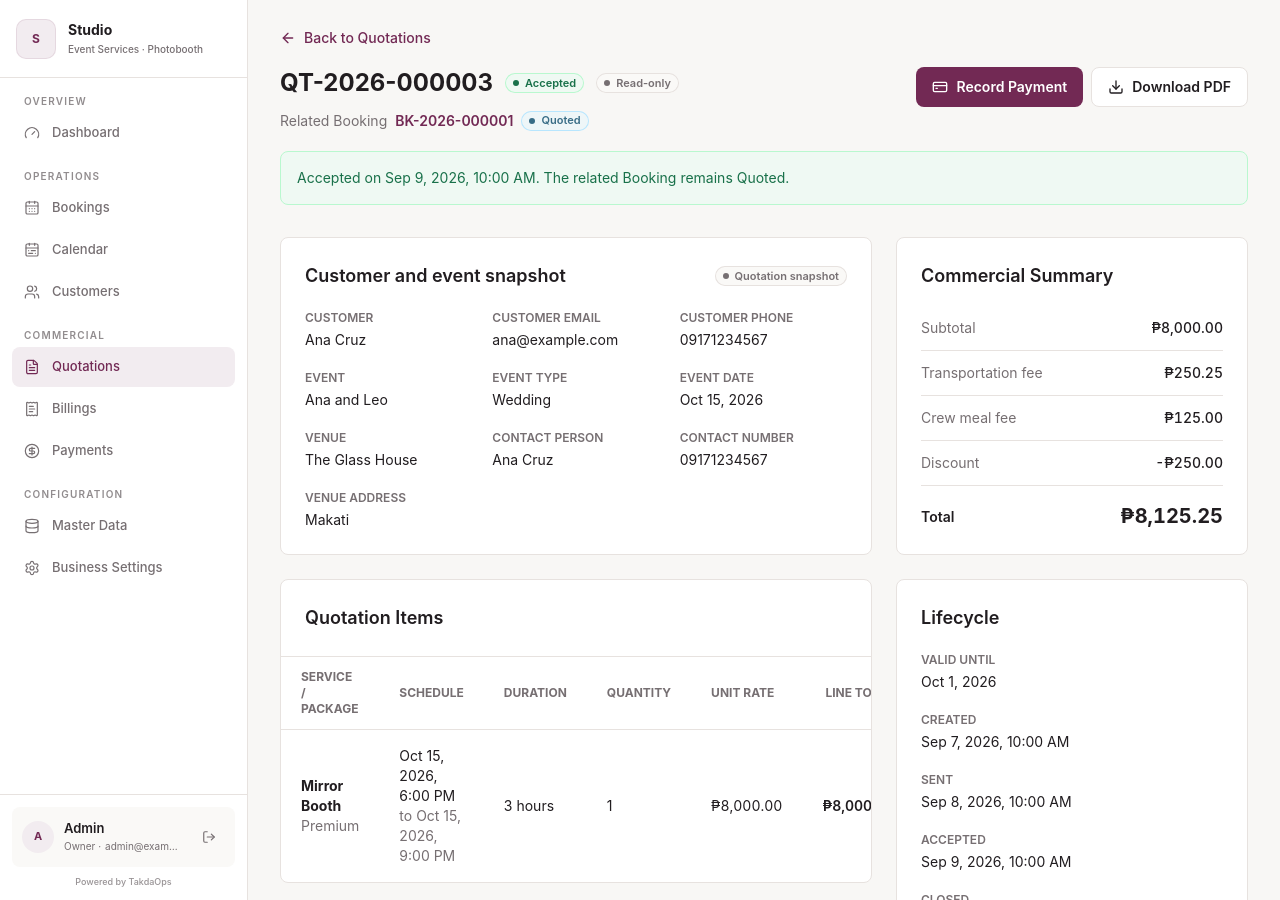
Accepted Quotation without Billing validates and records its first Payment
The image size is (1280, 900).
Click the button "Record Payment": {"x": 1000, "y": 87} [916, 67, 1083, 107]
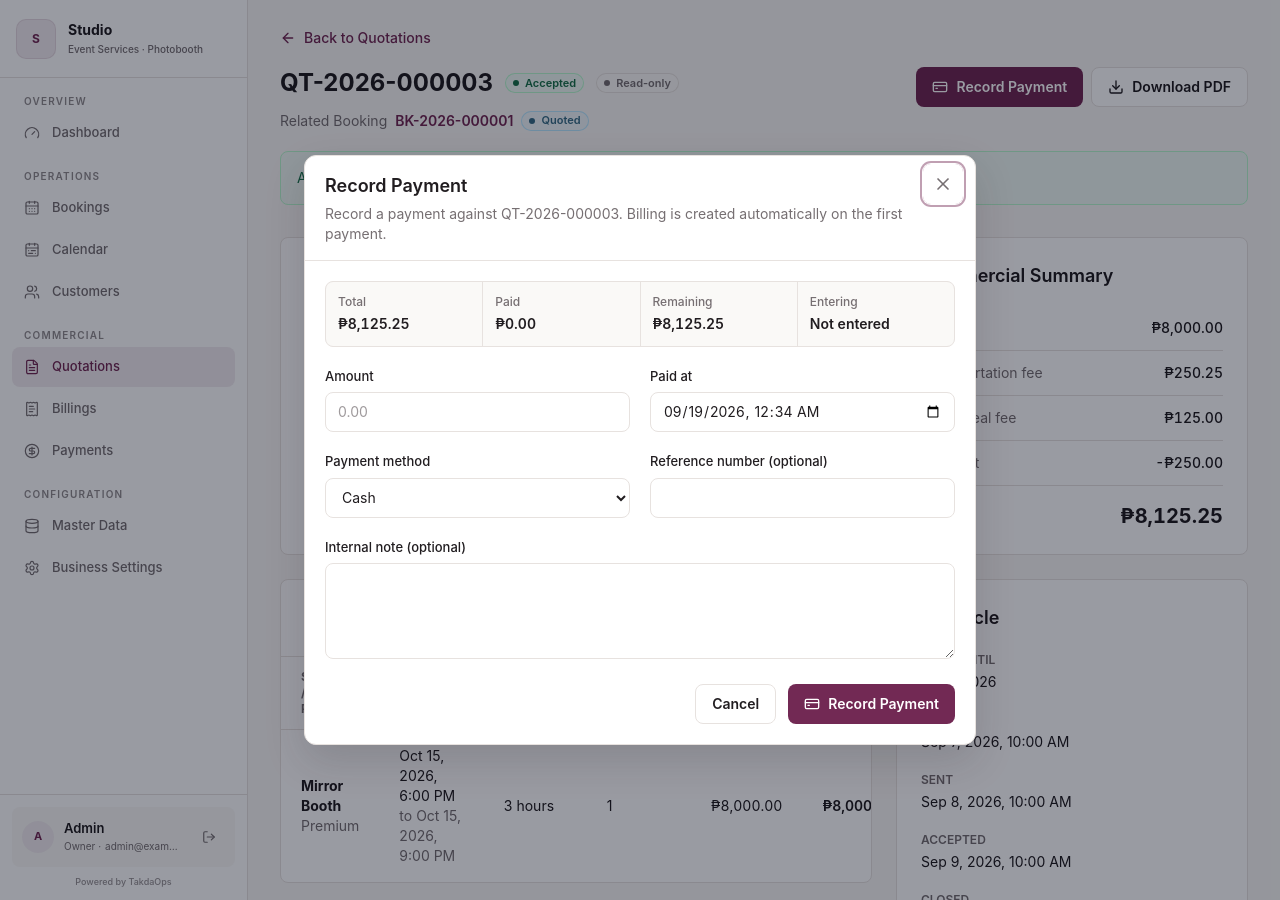
Click the button "Record Payment": {"x": 872, "y": 704} [788, 684, 955, 724]
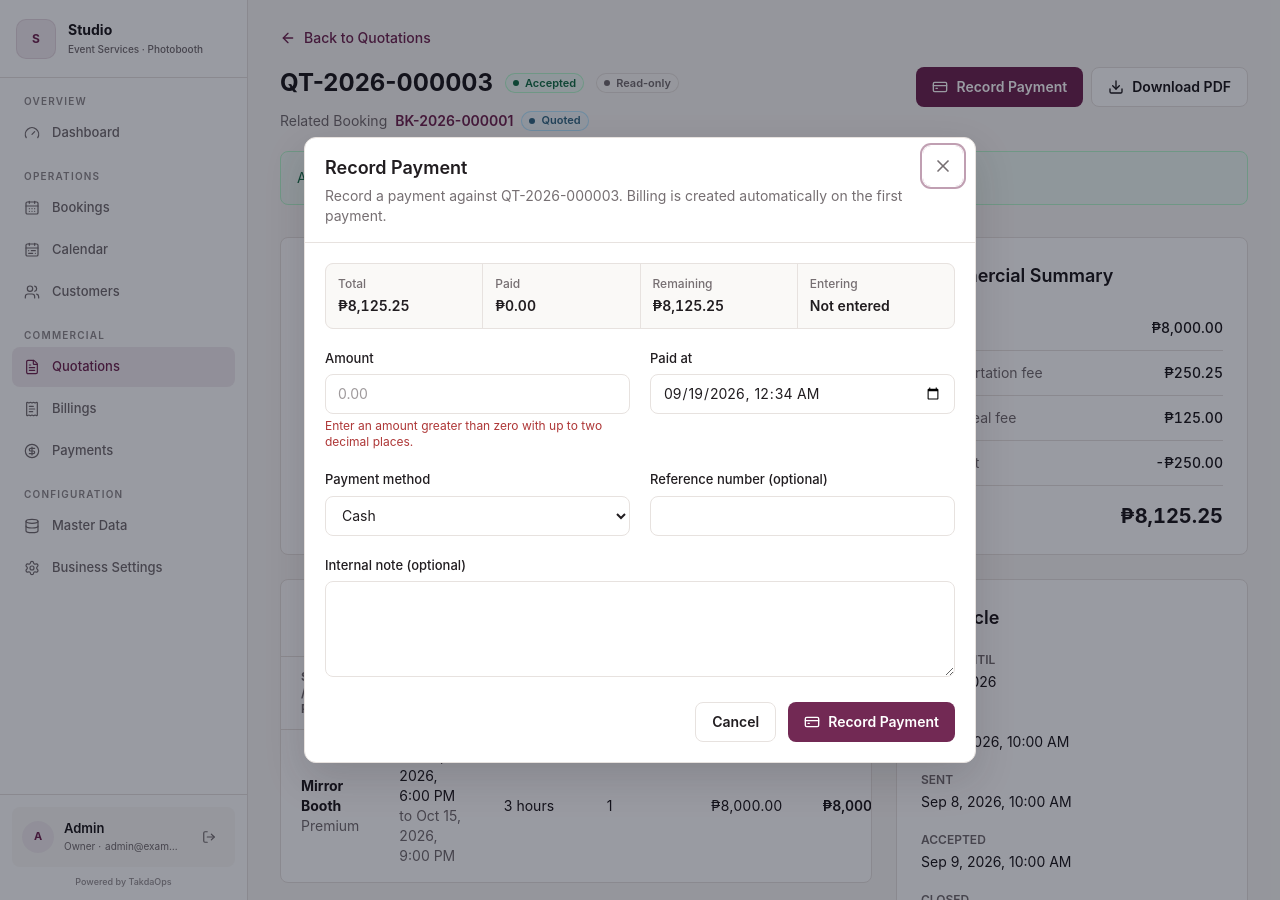
Now the text "greater than zero" is shown, box [325, 418, 602, 449]
In the field labelled "Amount": {"x": 478, "y": 394} [325, 374, 630, 414], type "1000.00"
Select "GCash" in the dropdown labelled "Payment method": {"x": 478, "y": 516} [325, 496, 630, 536]
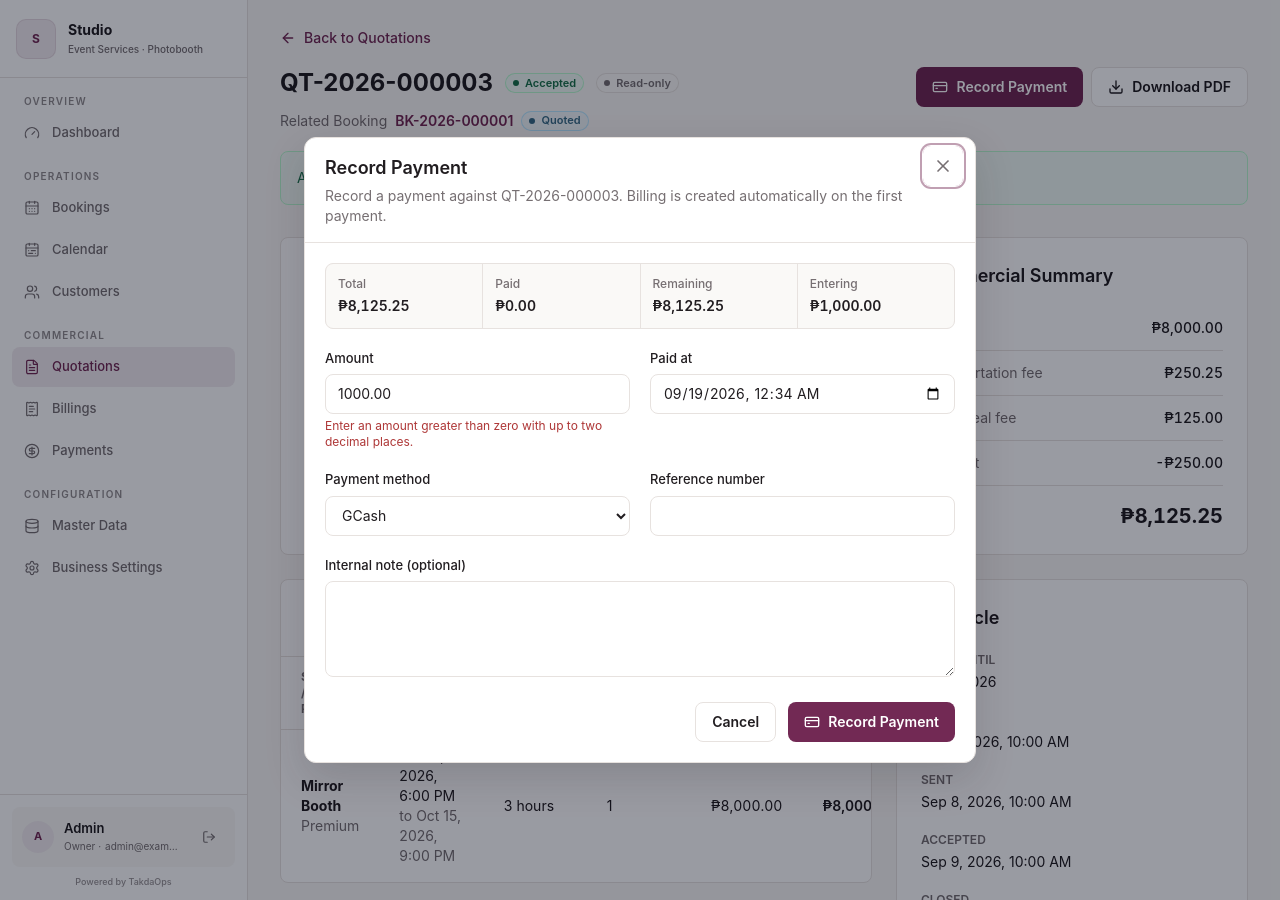
Click the button "Record Payment": {"x": 872, "y": 722} [788, 702, 955, 742]
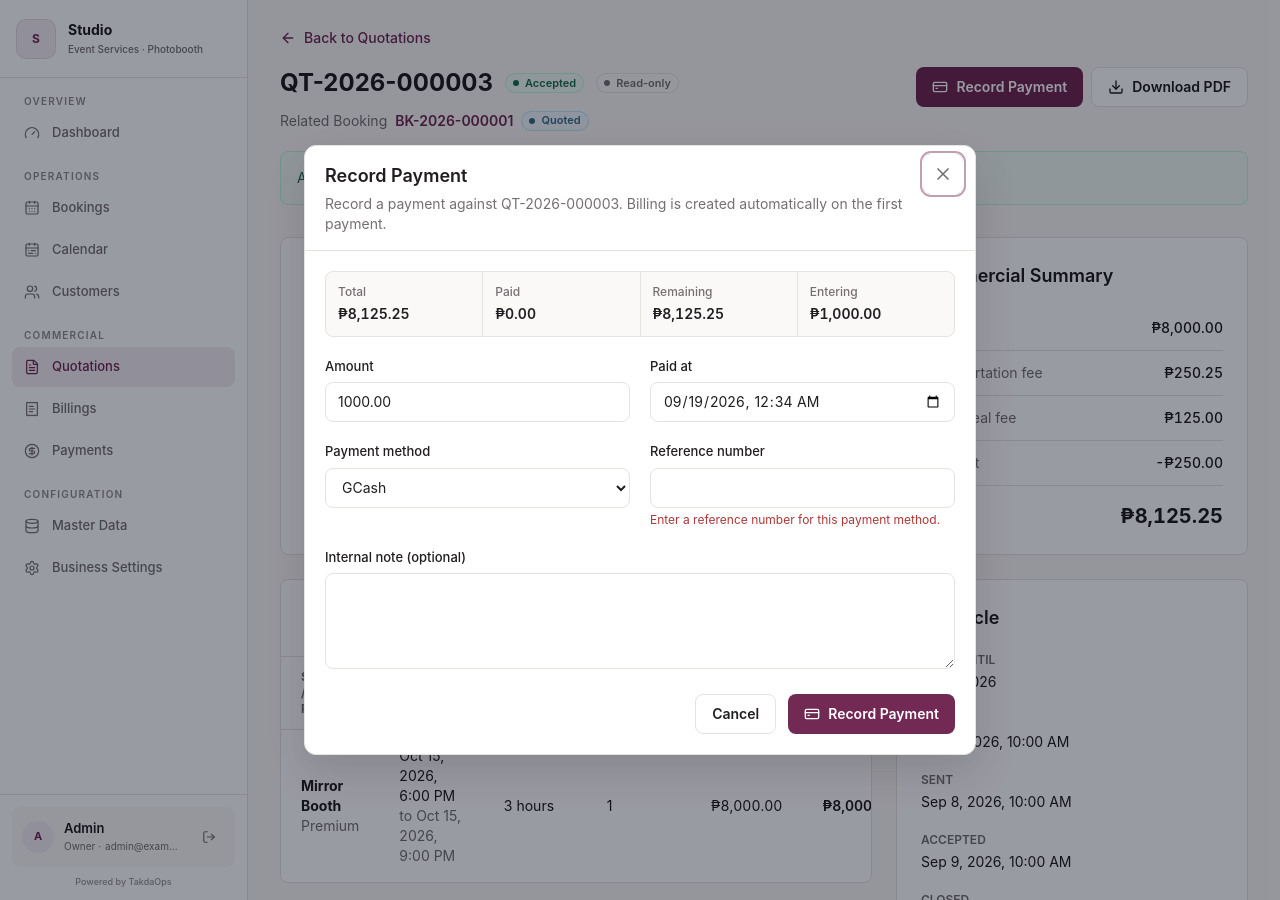
Now the text "Enter a reference number for this payment method." is shown, box [650, 512, 955, 528]
In the field labelled "Reference number": {"x": 802, "y": 488} [650, 468, 955, 508], type "GCASH-FIRST"
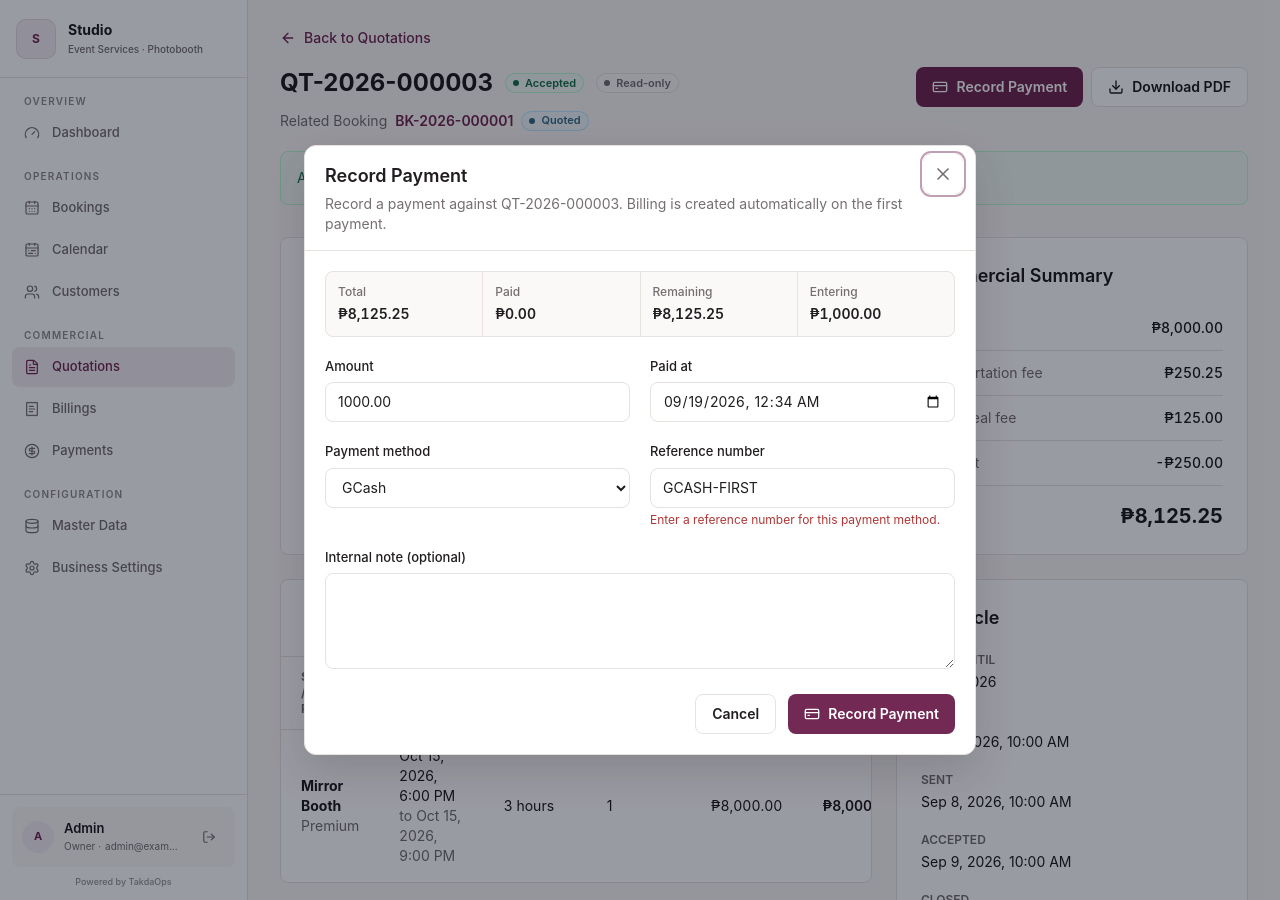
Click the button "Record Payment": {"x": 872, "y": 714} [788, 694, 955, 734]
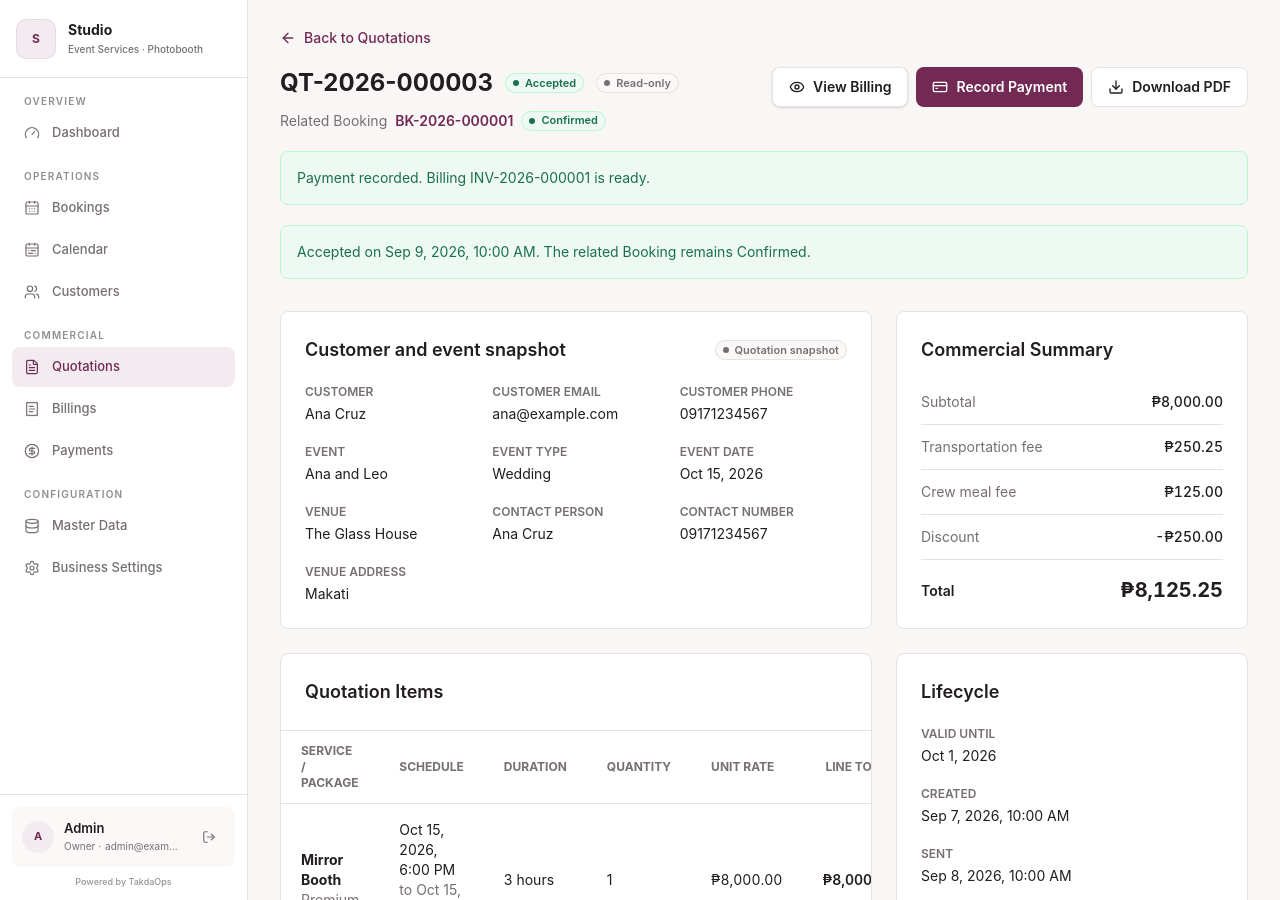
Now the text "Payment recorded. Billing INV-2026-000001 is ready." is shown, box [280, 151, 1248, 205]
